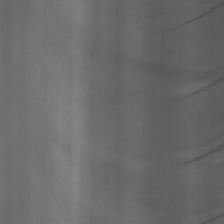crease: (168, 136, 224, 175), (164, 1, 224, 36), (166, 76, 224, 105)
